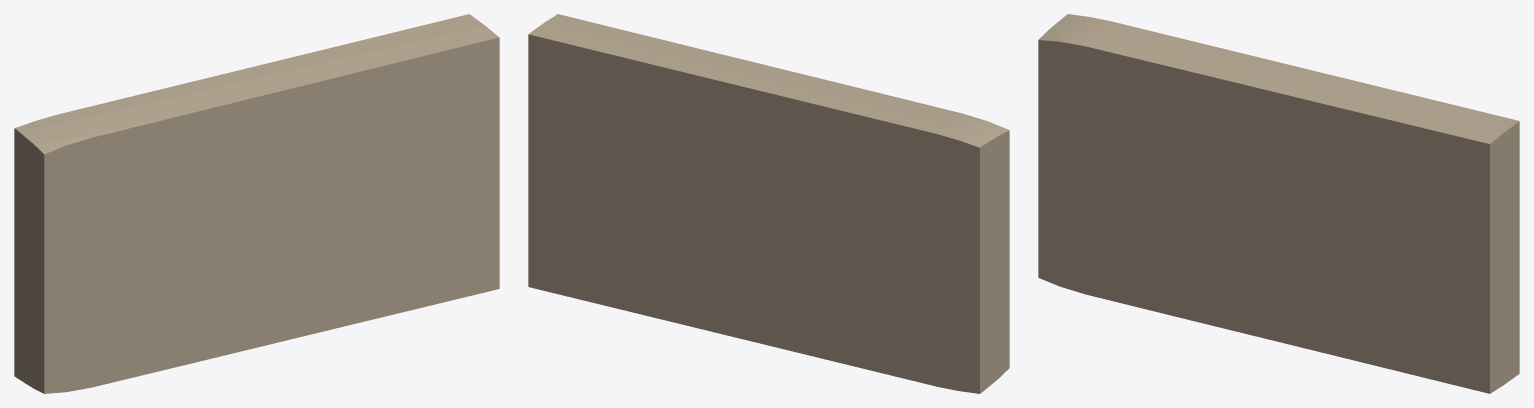
File: T-CAN-PLUG2.glb
The picture shows the model from 3 angles, left to right: view 1: azimuth 30°, elevation 25°; view 2: azimuth 150°, elevation 25°; view 3: azimuth 330°, elevation 25°; orthographic projection.
Visible parts, largest first — view 1: geometry_0; view 2: geometry_0; view 3: geometry_0.
Boxes of the visible parts, x1=… form: geometry_0: x1=14, y1=14, x2=499, y2=393; geometry_0: x1=528, y1=14, x2=1009, y2=393; geometry_0: x1=1038, y1=14, x2=1519, y2=393.
Size of the model in its own units: 1705 by 911 by 194.
